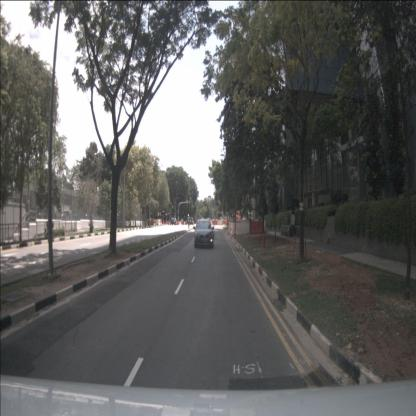barrier: (236, 220, 250, 236), (250, 220, 263, 234), (232, 224, 236, 236), (228, 222, 232, 233), (217, 219, 223, 226), (230, 222, 233, 235), (212, 220, 218, 225), (150, 219, 154, 226), (158, 219, 161, 226), (224, 220, 227, 226), (154, 219, 156, 226), (156, 219, 158, 226), (160, 219, 162, 225)
cone: (287, 225, 291, 237), (280, 225, 284, 236)
